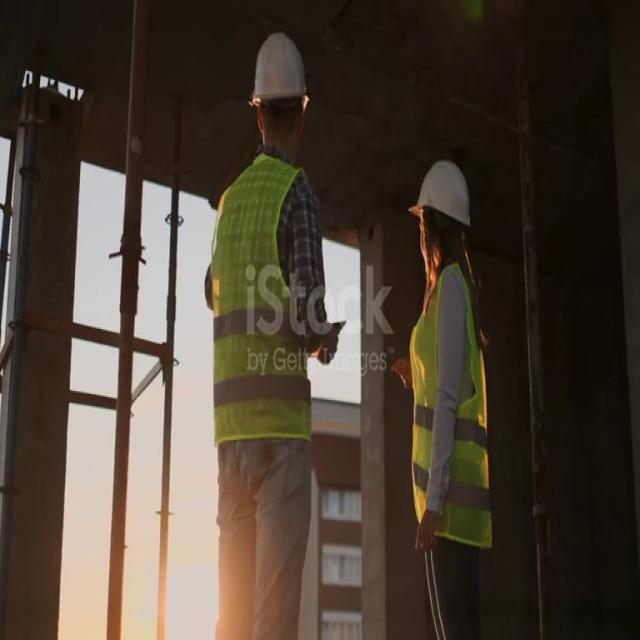capacete: (402, 146, 477, 235), (248, 30, 310, 118)
